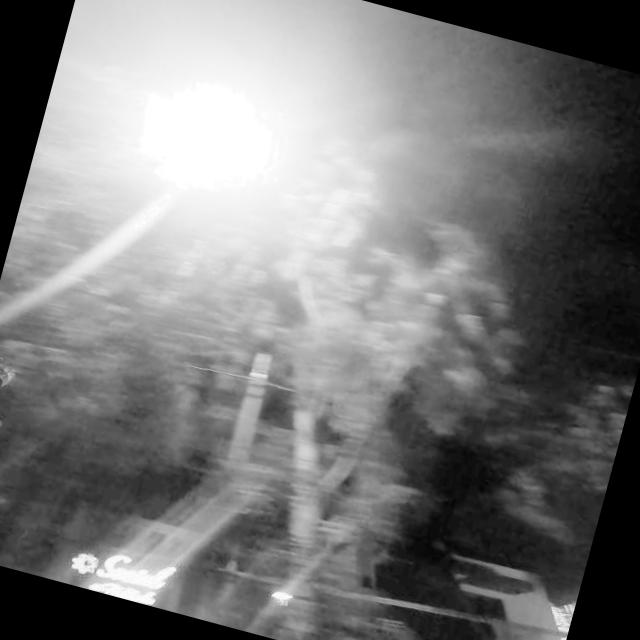Light: (103, 39, 310, 224)
